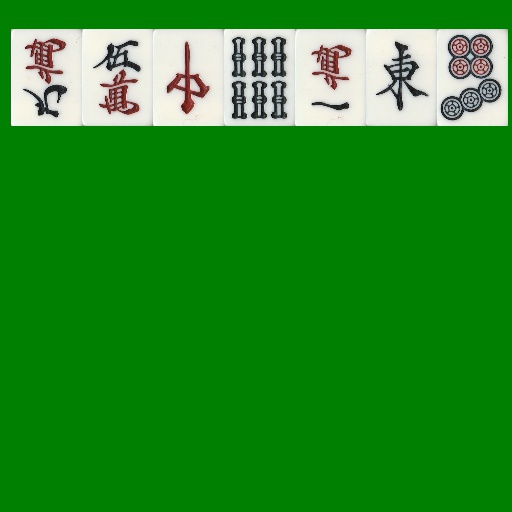1m: (295, 29, 366, 126)
5m: (82, 29, 153, 126)
6s: (224, 29, 295, 126)
7p: (437, 29, 508, 126)
9m: (11, 29, 82, 126)
east: (366, 29, 437, 126)
tyun: (153, 29, 224, 126)
